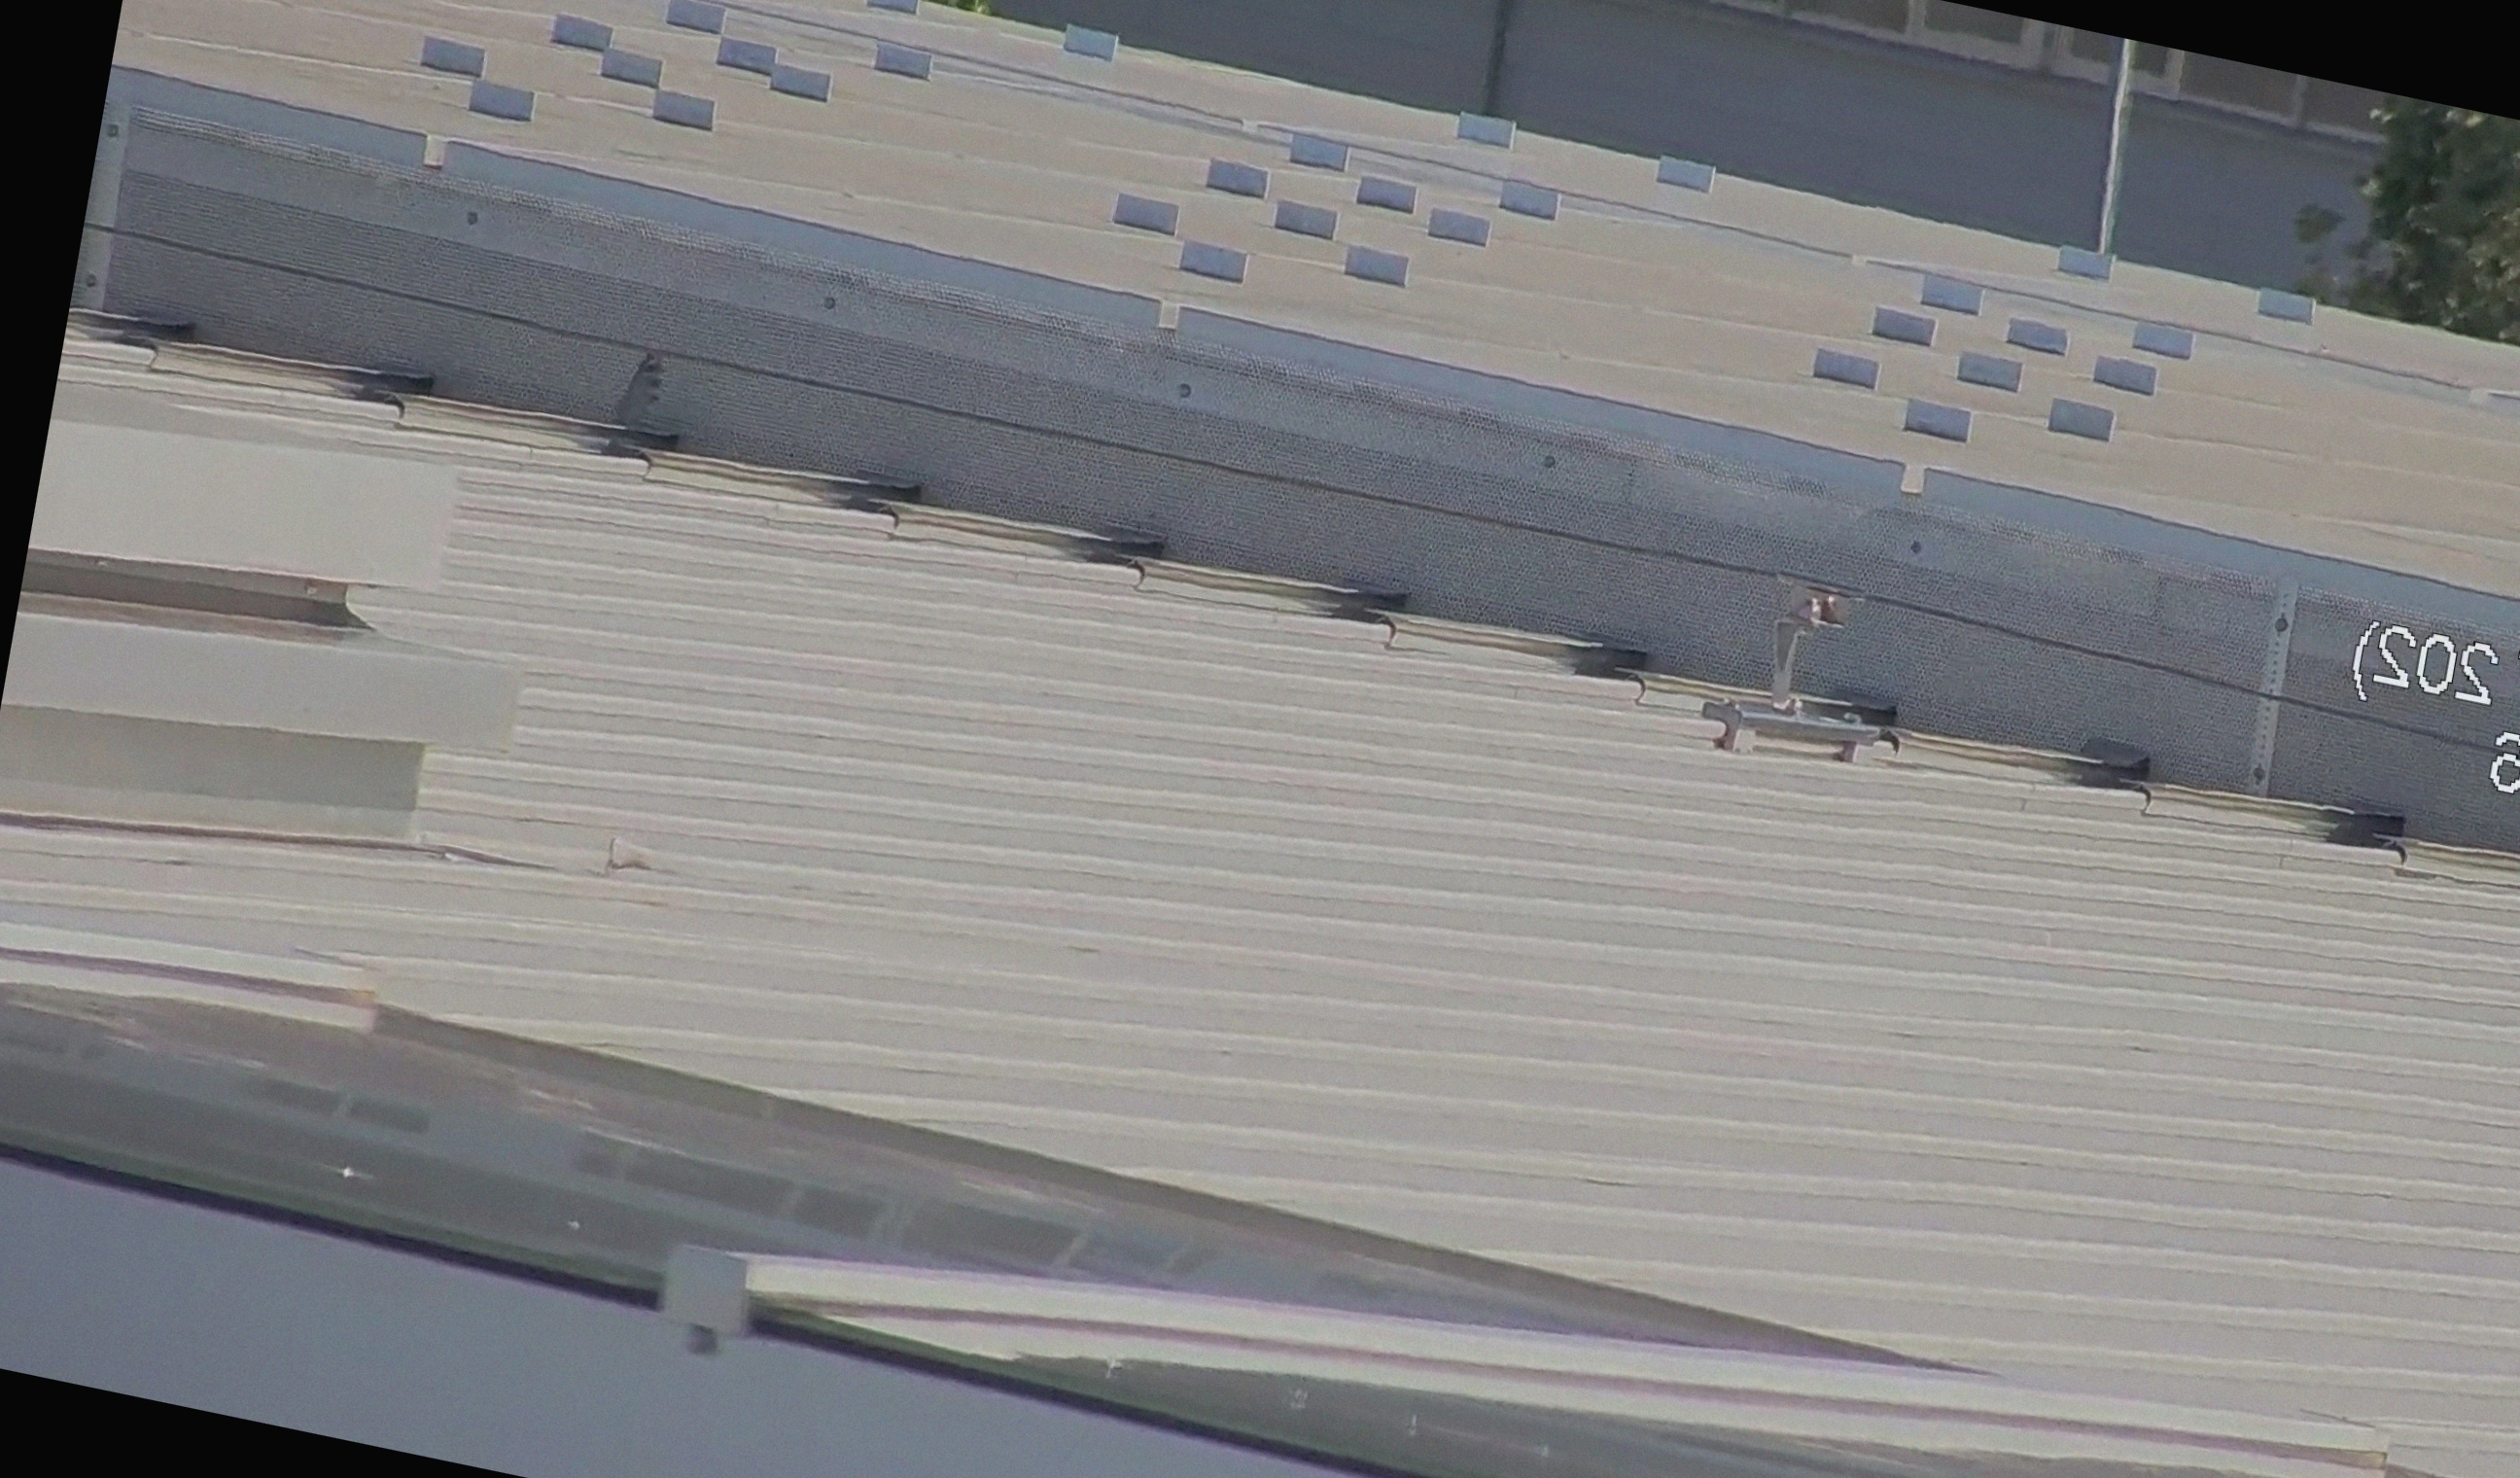Other: (564, 308, 688, 472)
